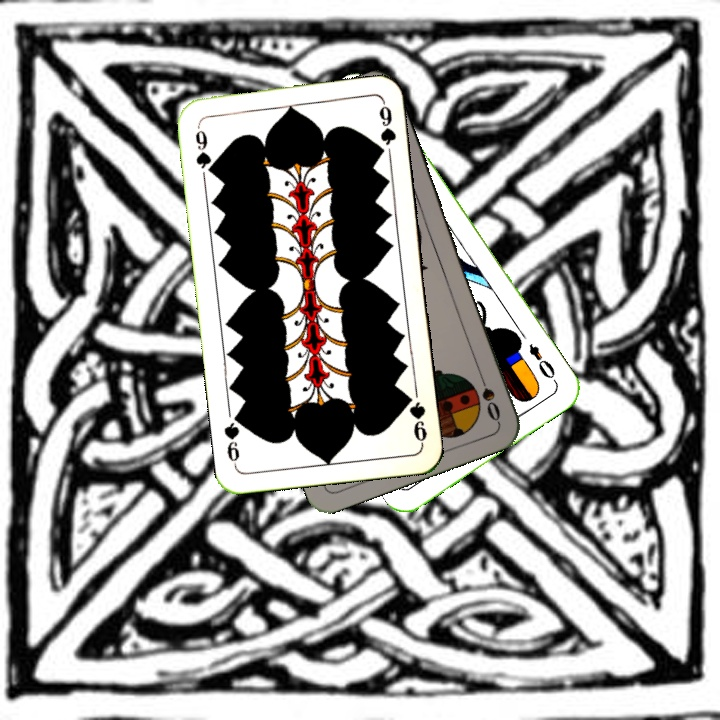EO: (525, 339, 560, 386)
G9: (401, 389, 429, 447), (191, 121, 216, 178)
SO: (474, 367, 503, 424)
